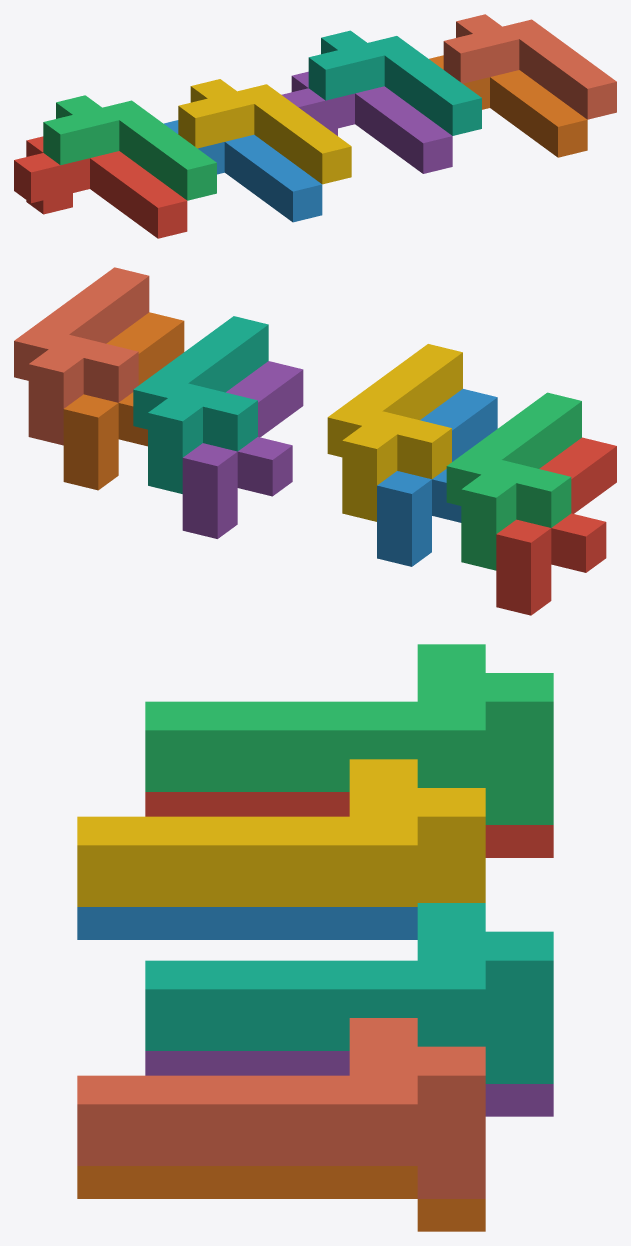
File: tiling.obj
The picture shows the model from 3 angles, top to bottom: view 1: azimuth 30°, elevation 25°; view 2: azimuth 150°, elevation 25°; view 3: azimuth 270°, elevation 25°; orthographic projection. The views are drawn at different scales.
Visible parts, largest first — view 1: copy_1_domain_7, copy_1_domain_3, copy_1_domain_4, copy_1_domain_8, copy_1_domain_1, copy_1_domain_5, copy_1_domain_2, copy_1_domain_6; view 2: copy_1_domain_3, copy_1_domain_8, copy_1_domain_7, copy_1_domain_4, copy_1_domain_1, copy_1_domain_5, copy_1_domain_6, copy_1_domain_2; view 3: copy_1_domain_8, copy_1_domain_7, copy_1_domain_3, copy_1_domain_4, copy_1_domain_6, copy_1_domain_2, copy_1_domain_1, copy_1_domain_5.
Boxes of the visible parts, left/top/right/bottom form: copy_1_domain_7: left=308, top=30, right=481, bottom=135; copy_1_domain_3: left=43, top=95, right=216, bottom=200; copy_1_domain_4: left=178, top=79, right=351, bottom=184; copy_1_domain_8: left=443, top=14, right=616, bottom=119; copy_1_domain_1: left=14, top=136, right=187, bottom=238; copy_1_domain_5: left=281, top=71, right=452, bottom=173; copy_1_domain_2: left=164, top=120, right=322, bottom=222; copy_1_domain_6: left=429, top=55, right=587, bottom=157; copy_1_domain_3: left=446, top=392, right=581, bottom=570; copy_1_domain_8: left=14, top=267, right=149, bottom=445; copy_1_domain_7: left=133, top=316, right=268, bottom=493; copy_1_domain_4: left=327, top=344, right=462, bottom=521; copy_1_domain_1: left=496, top=437, right=616, bottom=615; copy_1_domain_5: left=182, top=361, right=303, bottom=538; copy_1_domain_6: left=63, top=312, right=184, bottom=490; copy_1_domain_2: left=377, top=389, right=497, bottom=566; copy_1_domain_8: left=77, top=1018, right=485, bottom=1198; copy_1_domain_7: left=145, top=903, right=553, bottom=1083; copy_1_domain_3: left=145, top=644, right=553, bottom=824; copy_1_domain_4: left=77, top=759, right=485, bottom=906; copy_1_domain_6: left=77, top=1166, right=485, bottom=1231; copy_1_domain_2: left=77, top=907, right=417, bottom=939; copy_1_domain_1: left=145, top=792, right=553, bottom=857; copy_1_domain_5: left=145, top=1051, right=553, bottom=1116.
Bounding box in the file's own units: 17 × 3 × 7.
